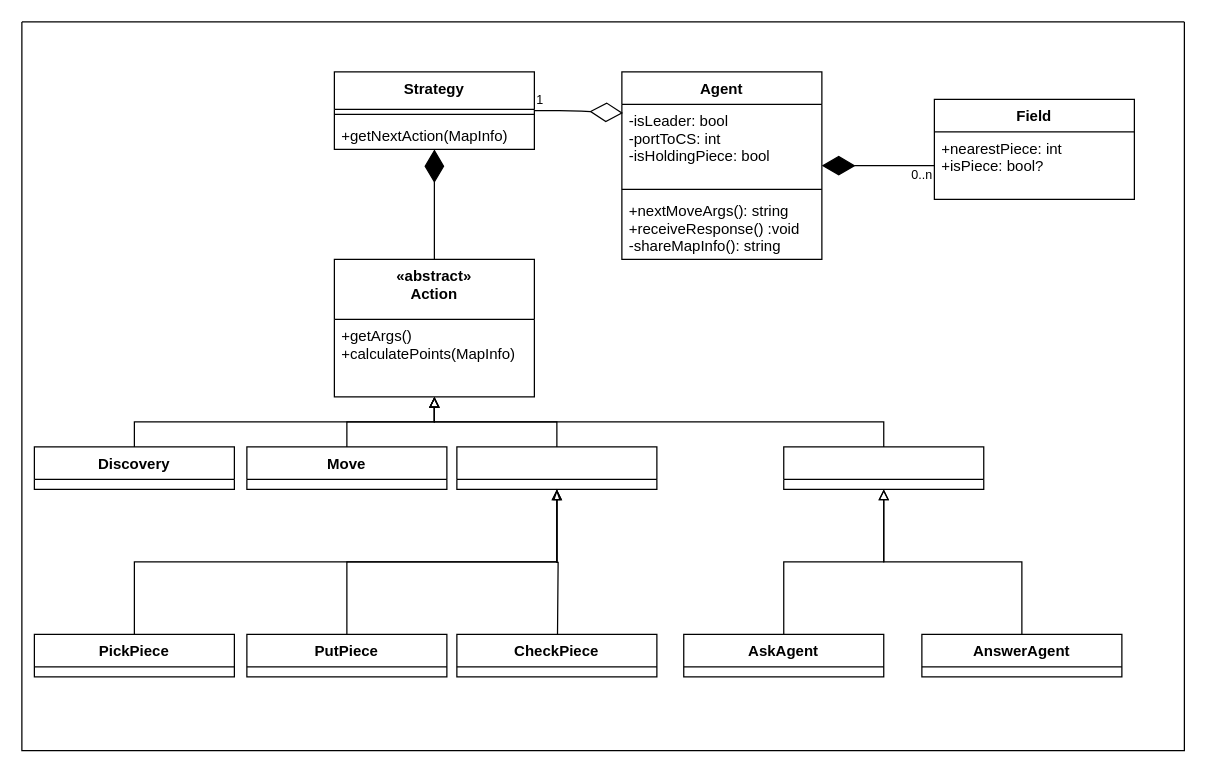
Image size: 1206x773. Some labels were removed from this diagram. Each missing label, with the centre of its shape:
Communication: point (883, 467)
PieceAction: point (556, 467)
